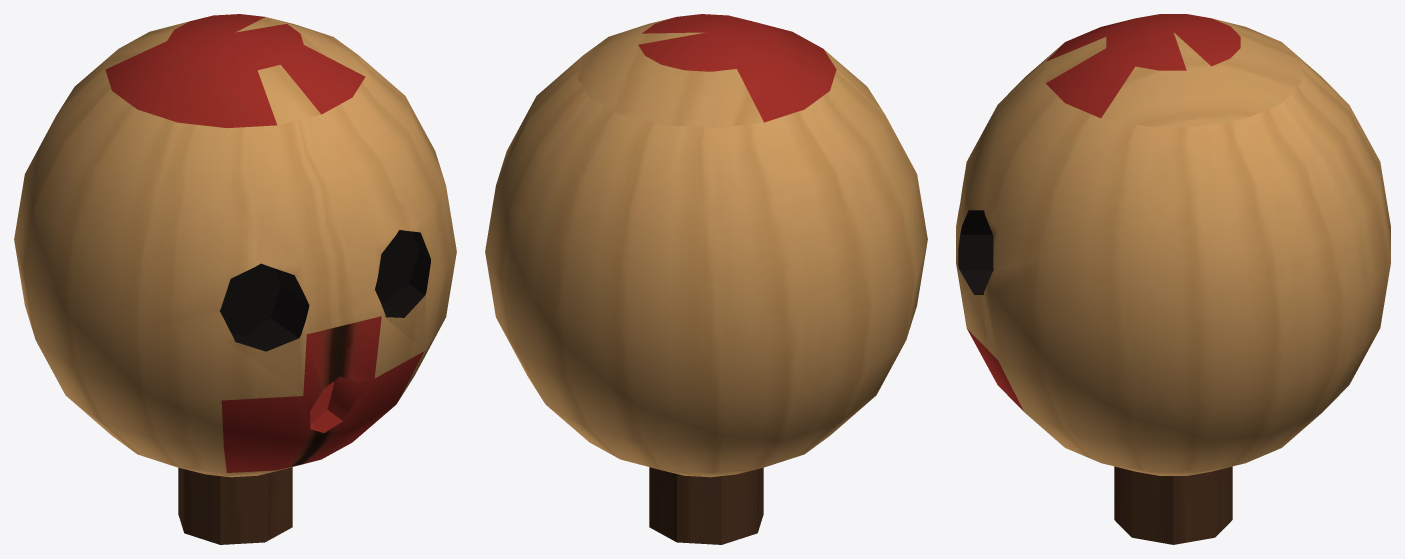
Rendered from Doll_Head_Scared.glb.
The picture shows the model from 3 angles, left to right: view 1: azimuth 30°, elevation 25°; view 2: azimuth 150°, elevation 25°; view 3: azimuth 270°, elevation 25°; orthographic projection.
Visible parts, largest first — view 1: Doll_Head_Scared; view 2: Doll_Head_Scared; view 3: Doll_Head_Scared.
Boxes of the visible parts, x1,y1,x2,y2 form: Doll_Head_Scared: (14,14,456,544); Doll_Head_Scared: (485,14,927,544); Doll_Head_Scared: (956,14,1390,544).
Size of the model in its own units: 0.2354 by 0.2914 by 0.2354.
4 materials, 3 textured.
